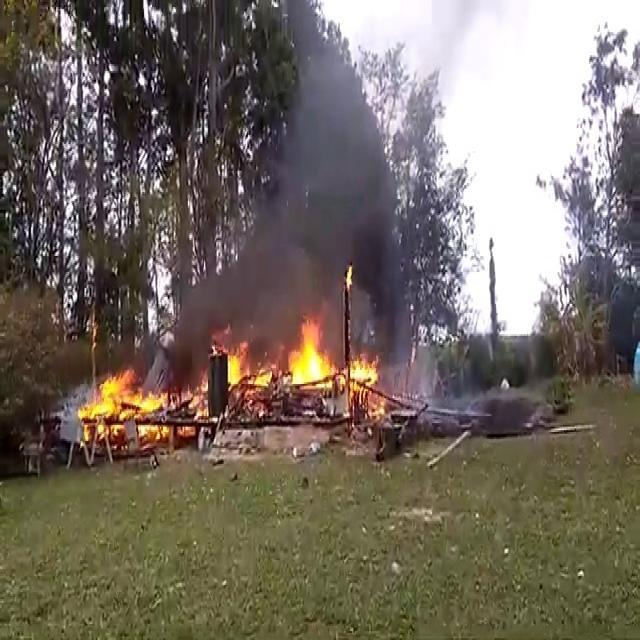Fire: (78, 359, 180, 444), (288, 320, 374, 393), (221, 340, 270, 400)
Smoke: (243, 8, 414, 324)
